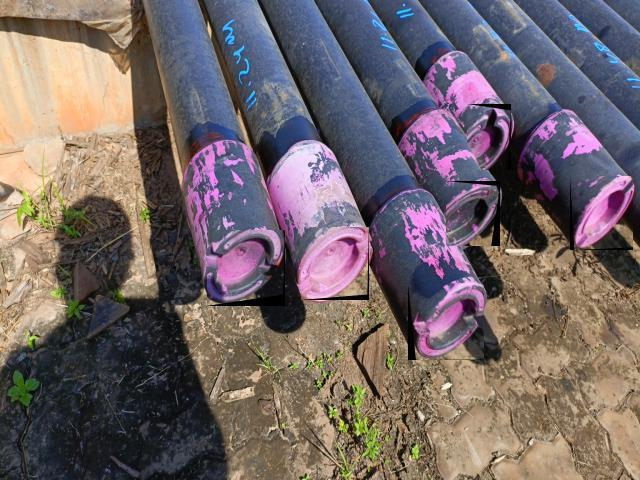pipe: (208, 230, 286, 306), (408, 283, 484, 360), (301, 227, 369, 300), (570, 176, 633, 250), (446, 181, 500, 246), (468, 104, 512, 170)
